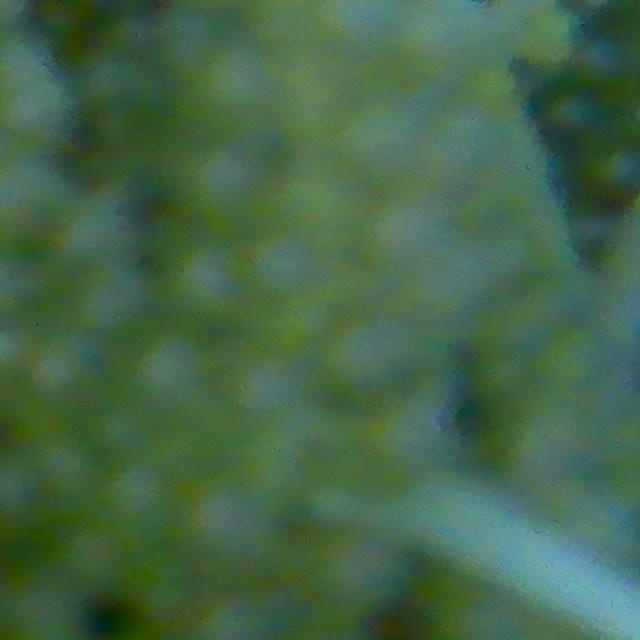SeaGrape: (317, 307, 419, 404), (295, 531, 395, 625), (214, 419, 314, 510), (124, 330, 210, 417), (201, 38, 280, 131), (277, 156, 359, 243), (165, 241, 247, 325), (0, 56, 76, 145), (186, 504, 265, 589), (352, 195, 426, 283), (73, 259, 153, 335), (0, 165, 83, 238), (177, 143, 253, 219), (337, 95, 410, 174), (34, 432, 98, 502), (252, 224, 311, 296), (0, 450, 47, 530), (545, 99, 609, 147), (598, 144, 640, 186)
